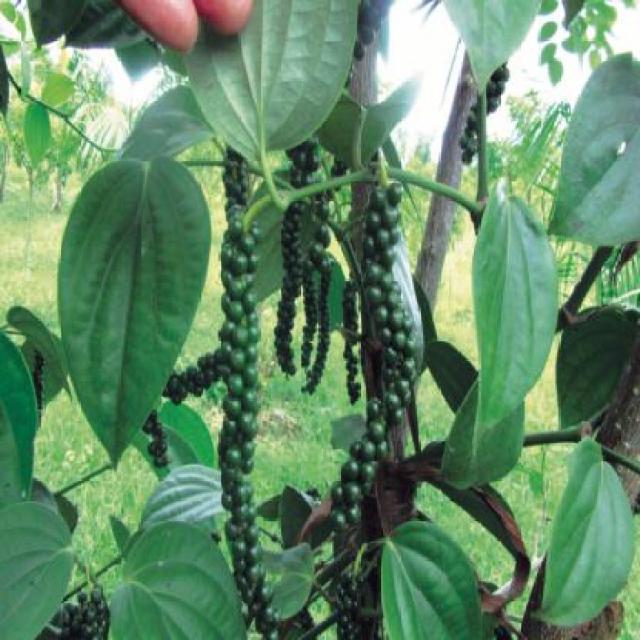UNRIPE: (330, 185, 416, 526), (218, 151, 276, 632), (299, 141, 330, 387), (274, 152, 298, 377), (457, 65, 509, 160), (168, 350, 222, 401), (60, 585, 109, 637), (341, 272, 358, 399), (336, 570, 359, 638), (141, 411, 168, 466), (32, 347, 43, 411)
